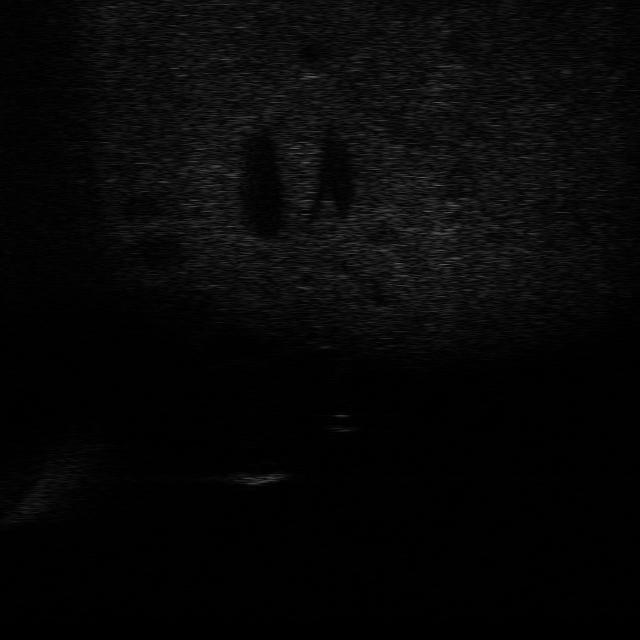ball: (318, 408, 362, 435)
human body: (305, 315, 350, 383)
square cage: (225, 458, 291, 486)
